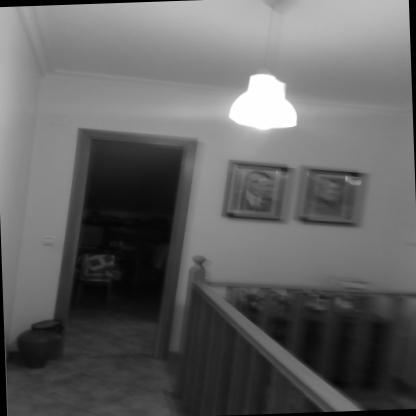open: (64, 112, 195, 357)
